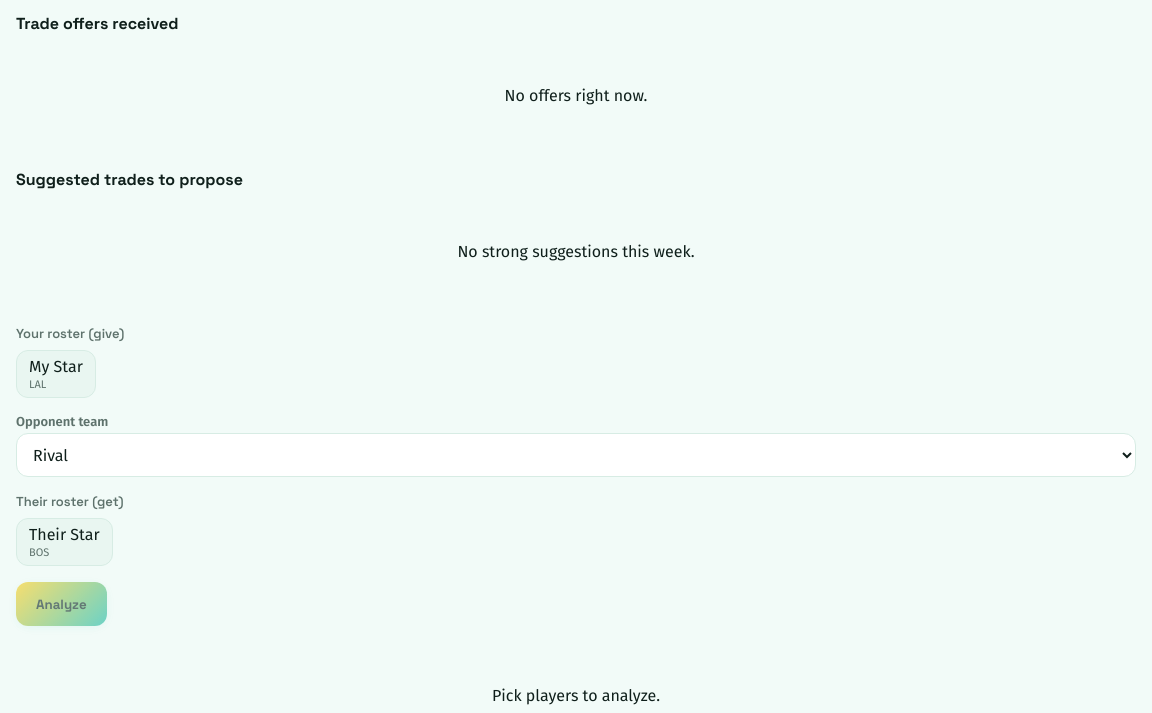
Test: TradeView › picks players from rosters and shows a verdict
// select my player, opponent, their player via the pickers, then analyze
Click the button "My Star LAL". click: (56, 374)
box: [16,350,96,398]
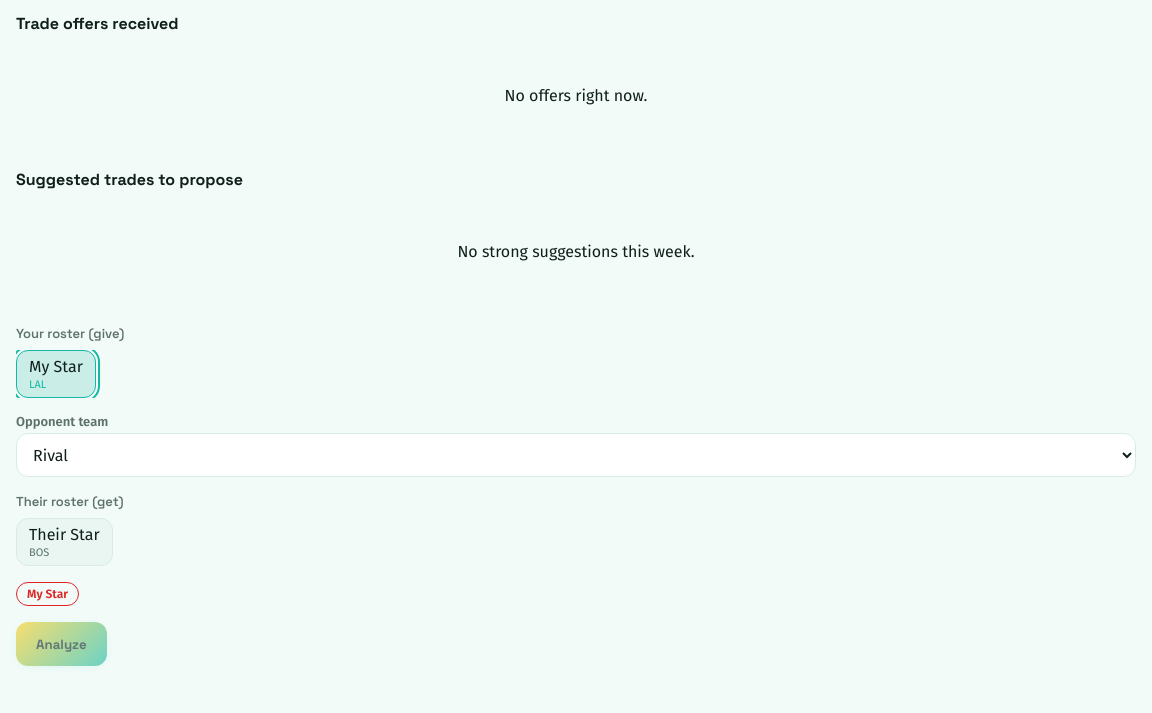
Select "Rival" in the dropdown labelled "Opponent team". click: (576, 455)
box: [16,433,1136,477]
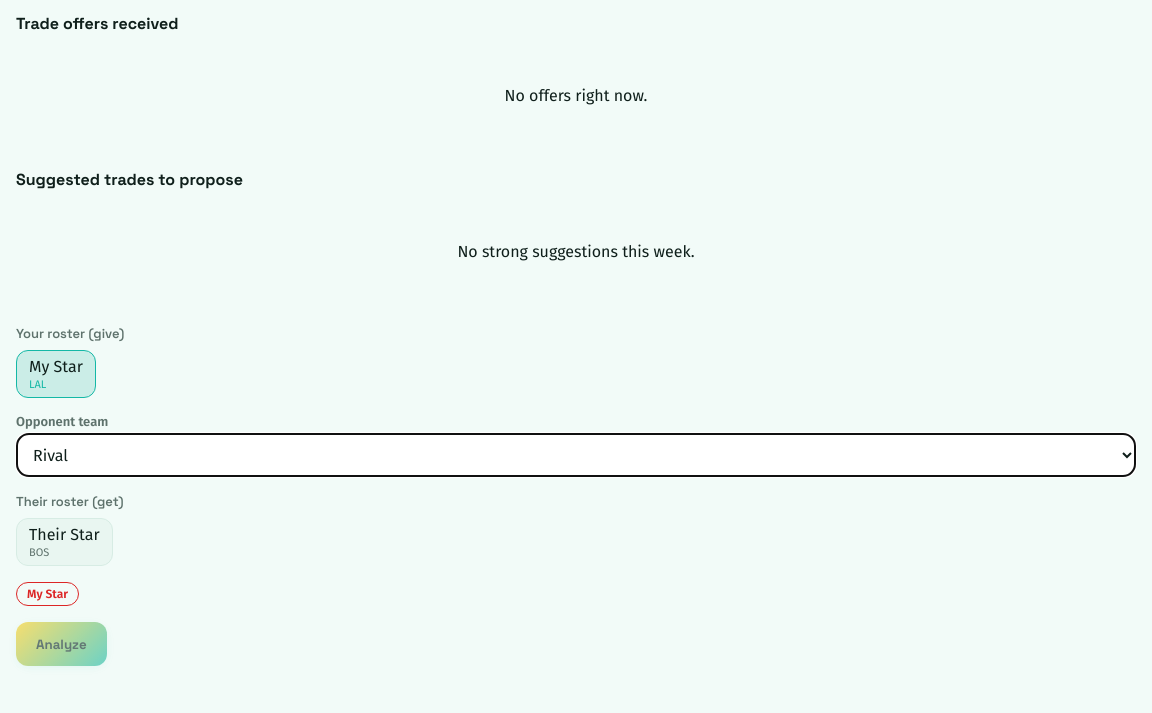
Click the button "Their Star BOS". click: (64, 542)
box: [16,518,113,566]
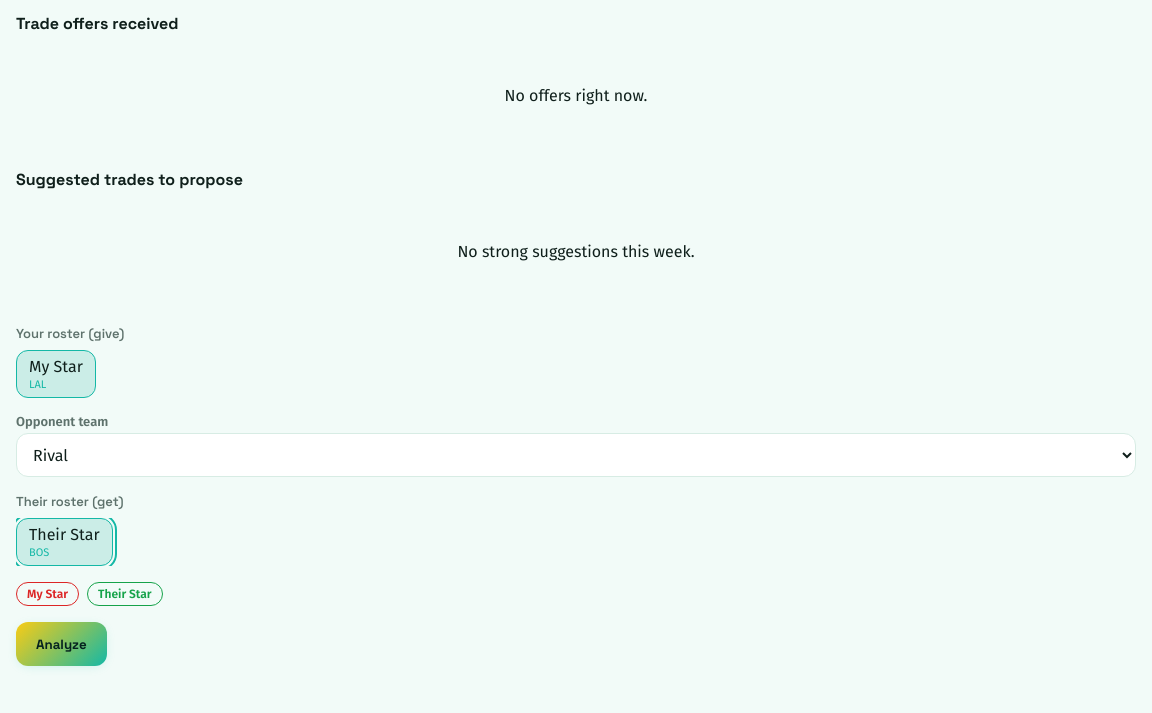
Click the button "Analyze". click: (61, 644)
box: [16,622,107,666]
(page scrolled)
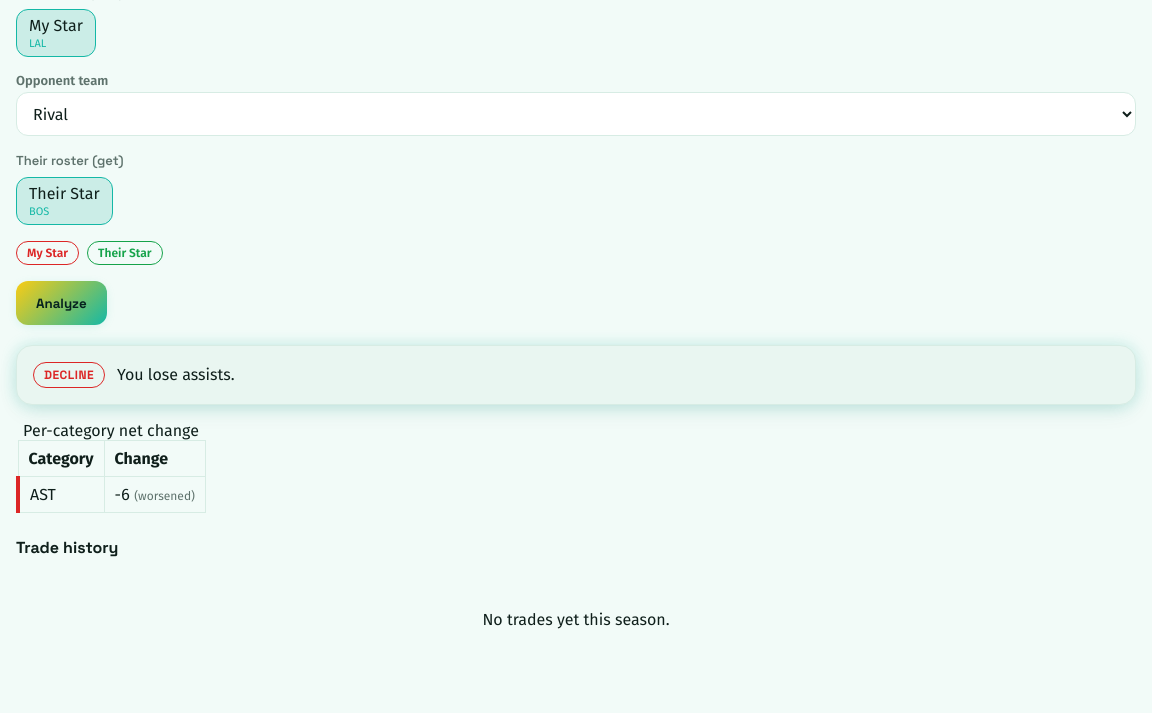
expect the text "DECLINE" is shown: met, box [33,362,105,388]
